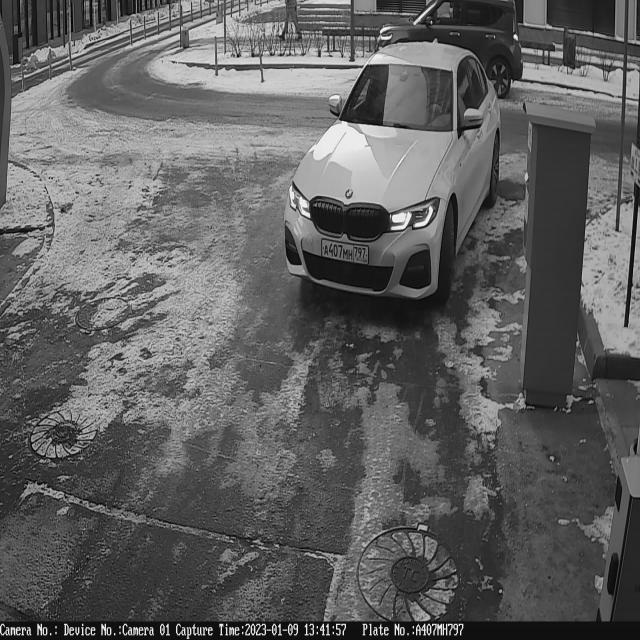car-plate-numbers: (320, 235, 372, 271)
